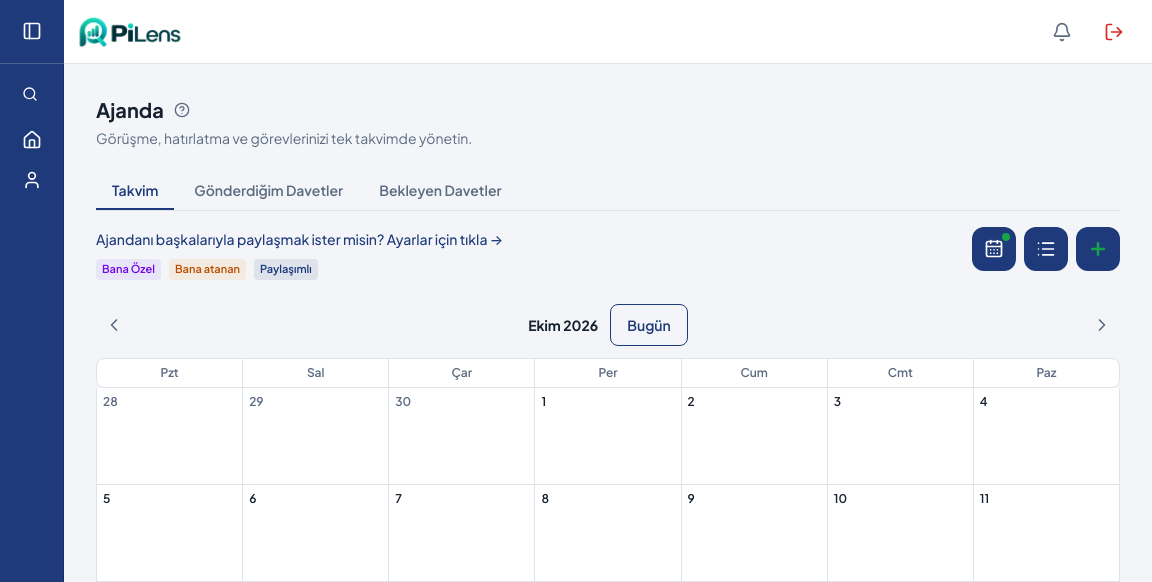
Test: CalendarPage › liste gorunumunde etkinlik yokken bos durum gosterir
The image size is (1152, 582).
Click the button named "Liste Görünümü" at (1046, 249), box [1024,227,1068,271]
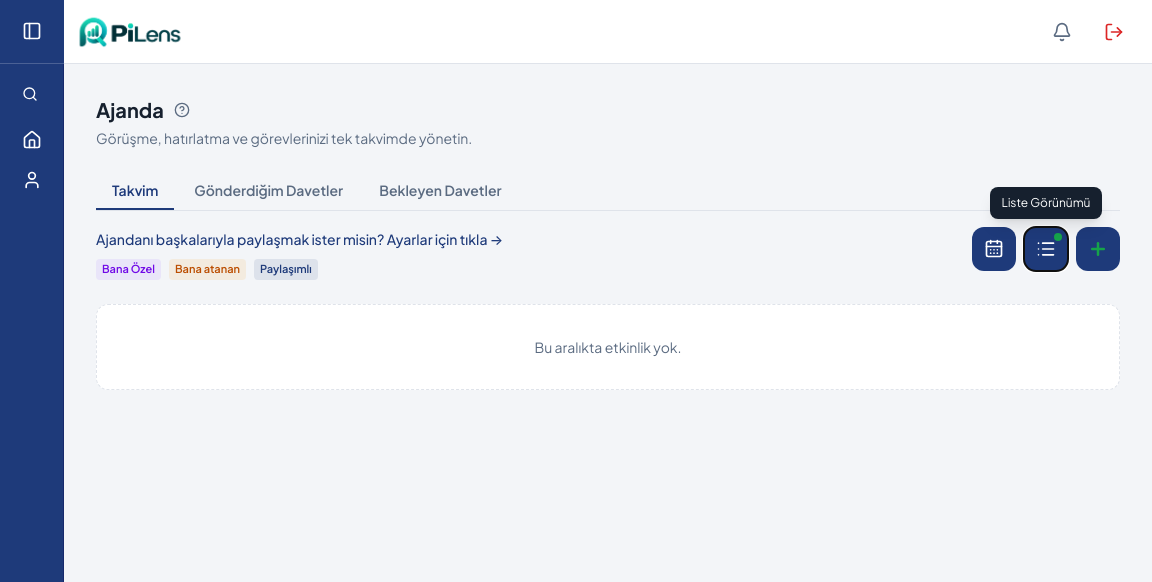
Check: the text "Bu aralıkta etkinlik yok." is shown, box [96,304,1120,390]
